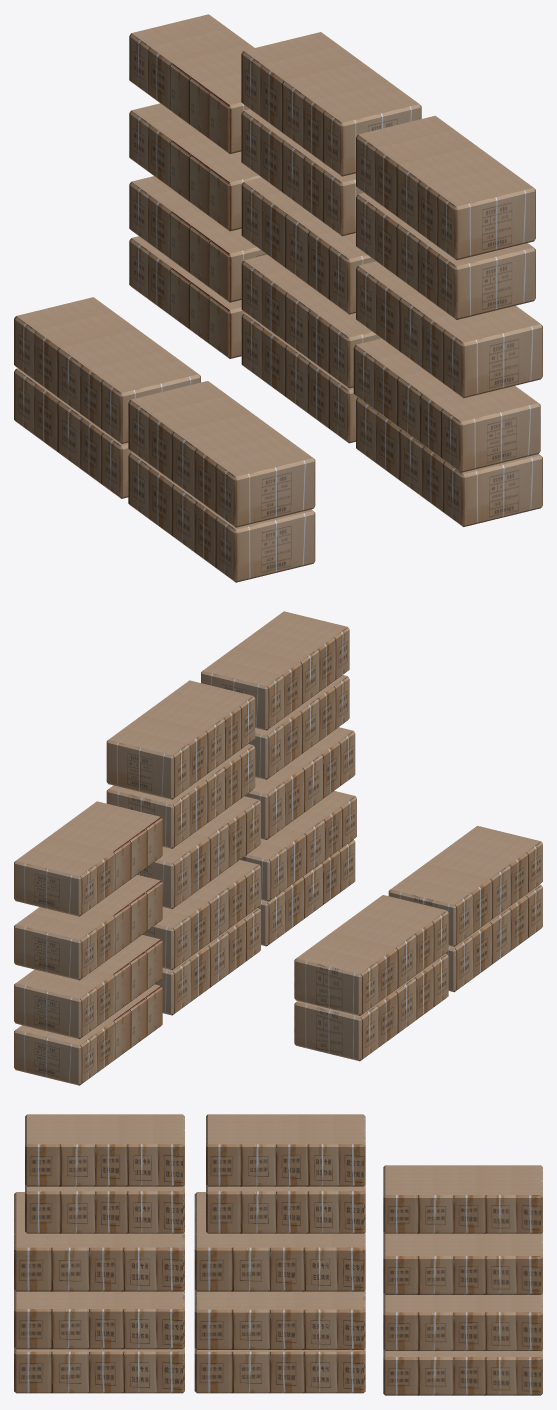
Rendered from zhiyuanzhefu.FBX.
The picture shows the model from 3 angles, top to bottom: view 1: azimuth 30°, elevation 25°; view 2: azimuth 150°, elevation 25°; view 3: azimuth 270°, elevation 25°; orthographic projection. The views are drawn at different scales.
Parts seen in each view (by area): view 1: Box3716, Box9108, Box9109, Box3717, Box3705, Box3706, Box3712, Box3704, Box3719, Box3707, Box3709, Box9110 (+6 smaller); view 2: Box3717, Box9109, Box3712, Box9108, Box3716, Box9110, Box9111, Box3718, Box9112, Box3709, Box3710, Box3706 (+6 smaller); view 3: Box9109, Box9108, Box3712, Box3709, Box3705, Box3710, Box3706, Box9110, Box9111, Box3707, Box3708, Box3704 (+2 smaller).
Part boxes in pixels (x1,y1,x2,y2): Box3716: [128, 381, 315, 527]; Box9108: [356, 115, 535, 260]; Box9109: [241, 32, 421, 176]; Box3717: [14, 297, 200, 443]; Box3705: [356, 261, 542, 398]; Box3706: [353, 338, 540, 472]; Box3712: [129, 14, 254, 153]; Box3704: [356, 193, 535, 319]; Box3719: [128, 452, 315, 582]; Box3707: [356, 397, 542, 526]; Box3709: [241, 177, 375, 314]; Box9110: [129, 103, 261, 231]; Box3717: [294, 895, 448, 1015]; Box9109: [106, 680, 255, 799]; Box3712: [14, 801, 162, 916]; Box9108: [201, 611, 349, 730]; Box3716: [388, 826, 542, 946]; Box9110: [14, 875, 162, 980]; Box9111: [14, 935, 162, 1038]; Box3718: [294, 953, 448, 1061]; Box9112: [14, 984, 162, 1085]; Box3709: [137, 796, 260, 908]; Box3710: [142, 860, 260, 969]; Box3706: [240, 791, 356, 901]; Box9109: [206, 1114, 365, 1186]; Box9108: [25, 1114, 184, 1186]; Box3712: [383, 1165, 542, 1233]; Box3709: [194, 1218, 365, 1291]; Box3705: [14, 1218, 184, 1291]; Box3710: [194, 1290, 365, 1349]; Box3706: [14, 1290, 184, 1349]; Box9110: [383, 1232, 542, 1294]; Box9111: [383, 1293, 542, 1350]; Box3707: [14, 1347, 184, 1393]; Box3708: [206, 1185, 365, 1233]; Box3704: [25, 1185, 184, 1233].
Bounding box in the file's own units: 2.78 × 5.22 × 2.74.
